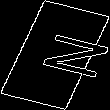N_W: (13, 28, 97, 82)
